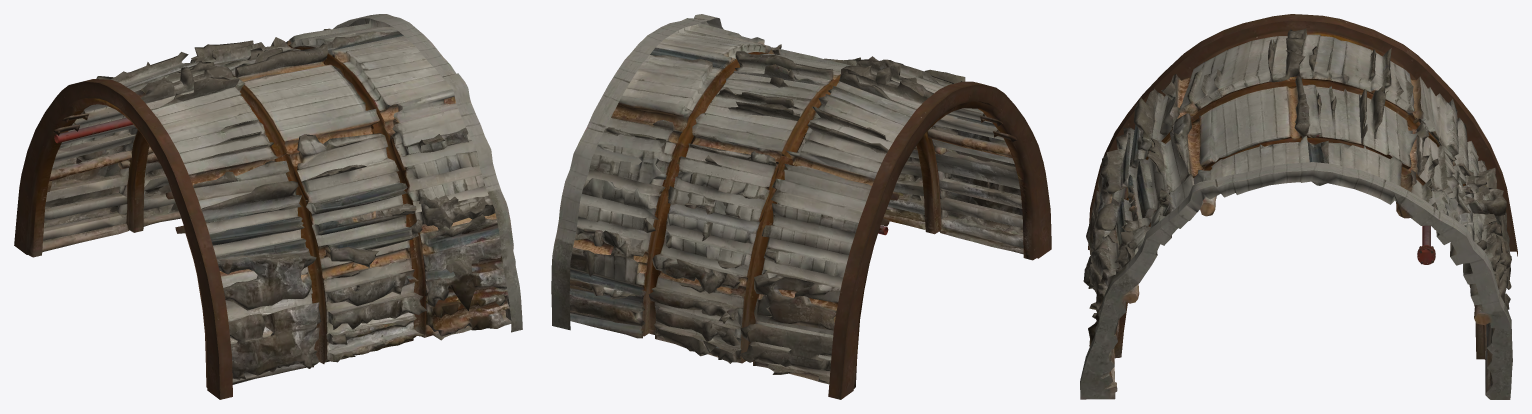
Rendered from wdpncgrdw.glb.
3 views of the same model, side by side, from view 1: azimuth 30°, elevation 25°; view 2: azimuth 150°, elevation 25°; view 3: azimuth 270°, elevation 25° (orthographic). The views are drawn at different scales.
Parts seen in each view (by area): view 1: wdpncgrdw_LOD0_TIER2_000; view 2: wdpncgrdw_LOD0_TIER2_000; view 3: wdpncgrdw_LOD0_TIER2_000.
Part boxes in pixels (x1,y1,x2,y2): wdpncgrdw_LOD0_TIER2_000: (14, 14, 522, 399); wdpncgrdw_LOD0_TIER2_000: (551, 14, 1051, 399); wdpncgrdw_LOD0_TIER2_000: (1080, 14, 1517, 399).
Bounding box in the file's own units: 4.9 × 3.68 × 5.95.
Materials: 1 (1 with a texture image).
